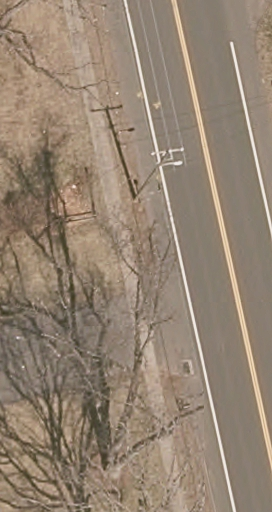DT: (133, 147, 185, 201)
